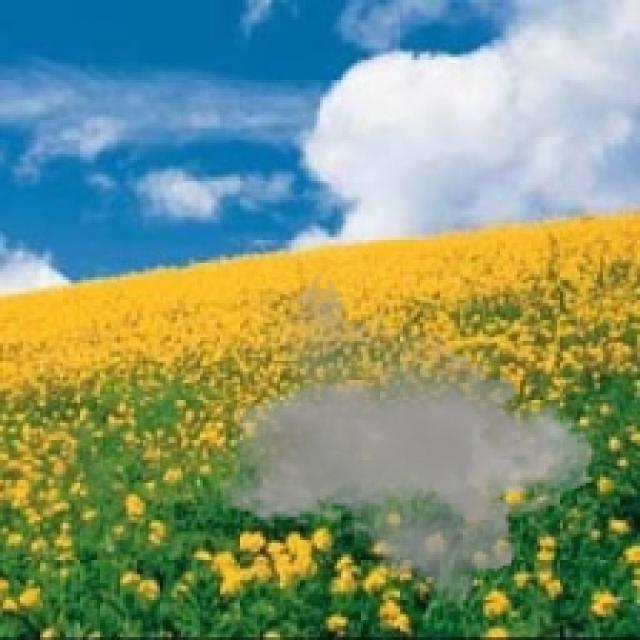smoke: (217, 272, 594, 614)
